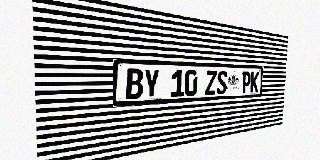0: (184, 70, 198, 96)
1: (171, 70, 185, 97)
B: (126, 68, 143, 100)
K: (250, 72, 259, 93)
P: (241, 71, 251, 93)
S: (216, 71, 227, 94)
Y: (143, 69, 159, 99)
Z: (205, 70, 217, 95)
